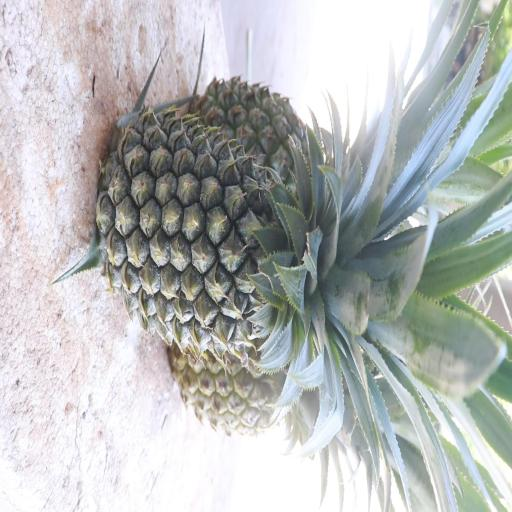------------------------------: (169, 339, 384, 469)
